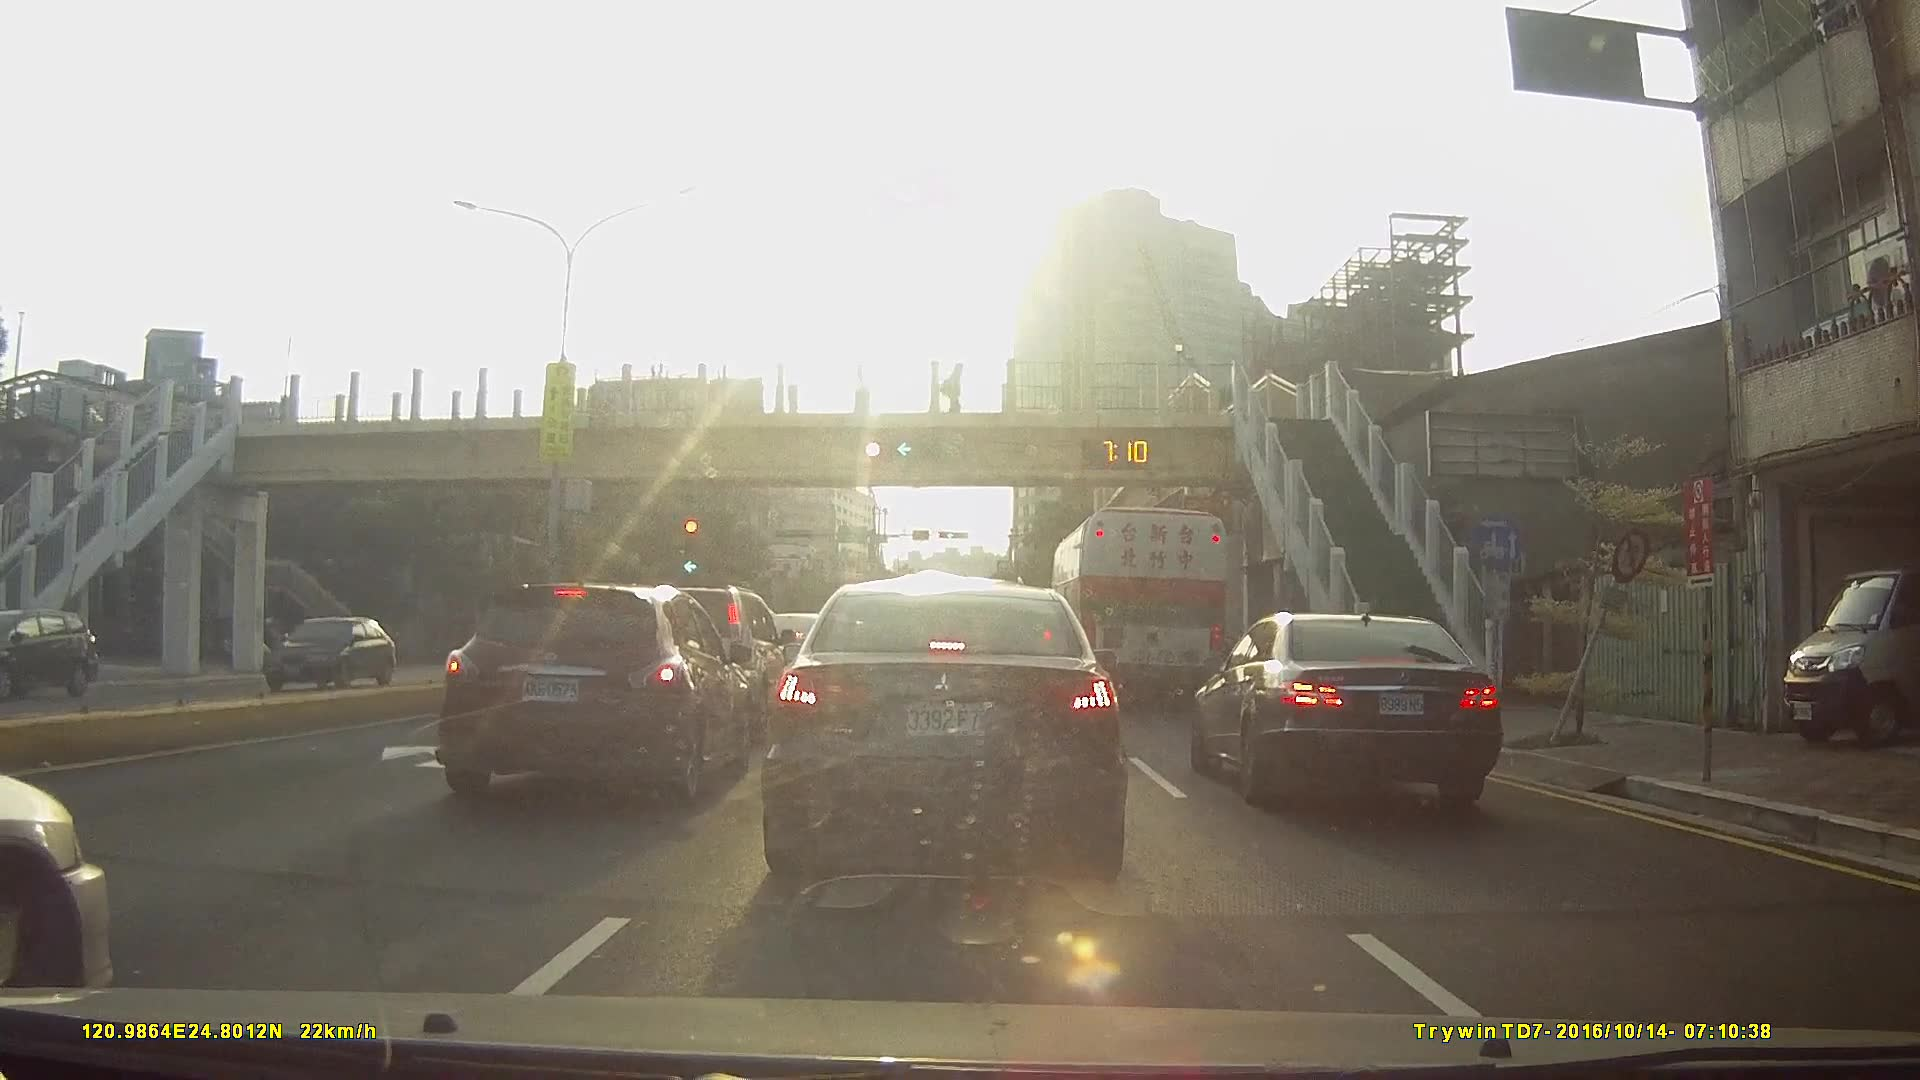pedestrian: (944, 364, 966, 412)
vehicle: (755, 574, 1132, 881), (430, 579, 754, 807), (1184, 607, 1498, 814), (1050, 505, 1230, 703), (250, 612, 388, 690), (0, 604, 97, 698)
